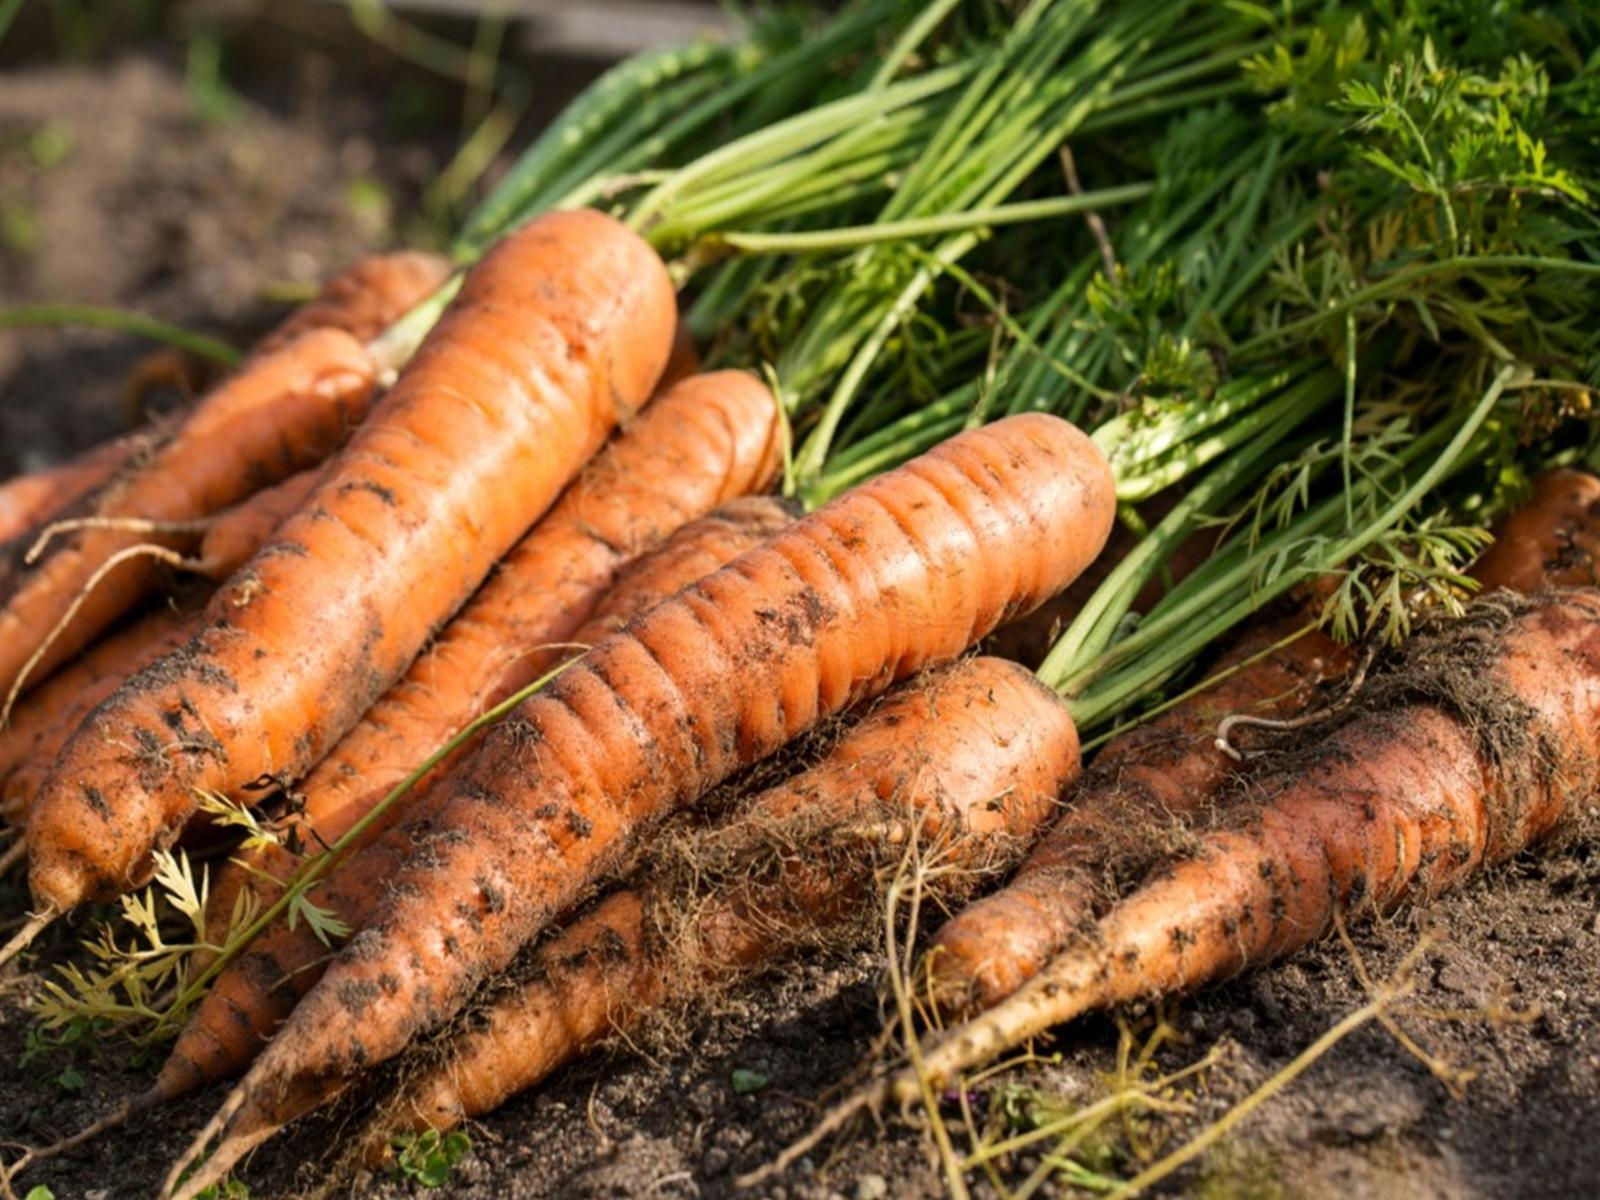carrot: (0, 168, 1600, 1076), (57, 262, 1569, 986)
